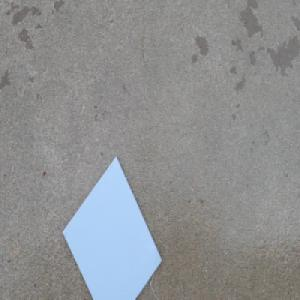PaintChip: (61, 155, 162, 300)
